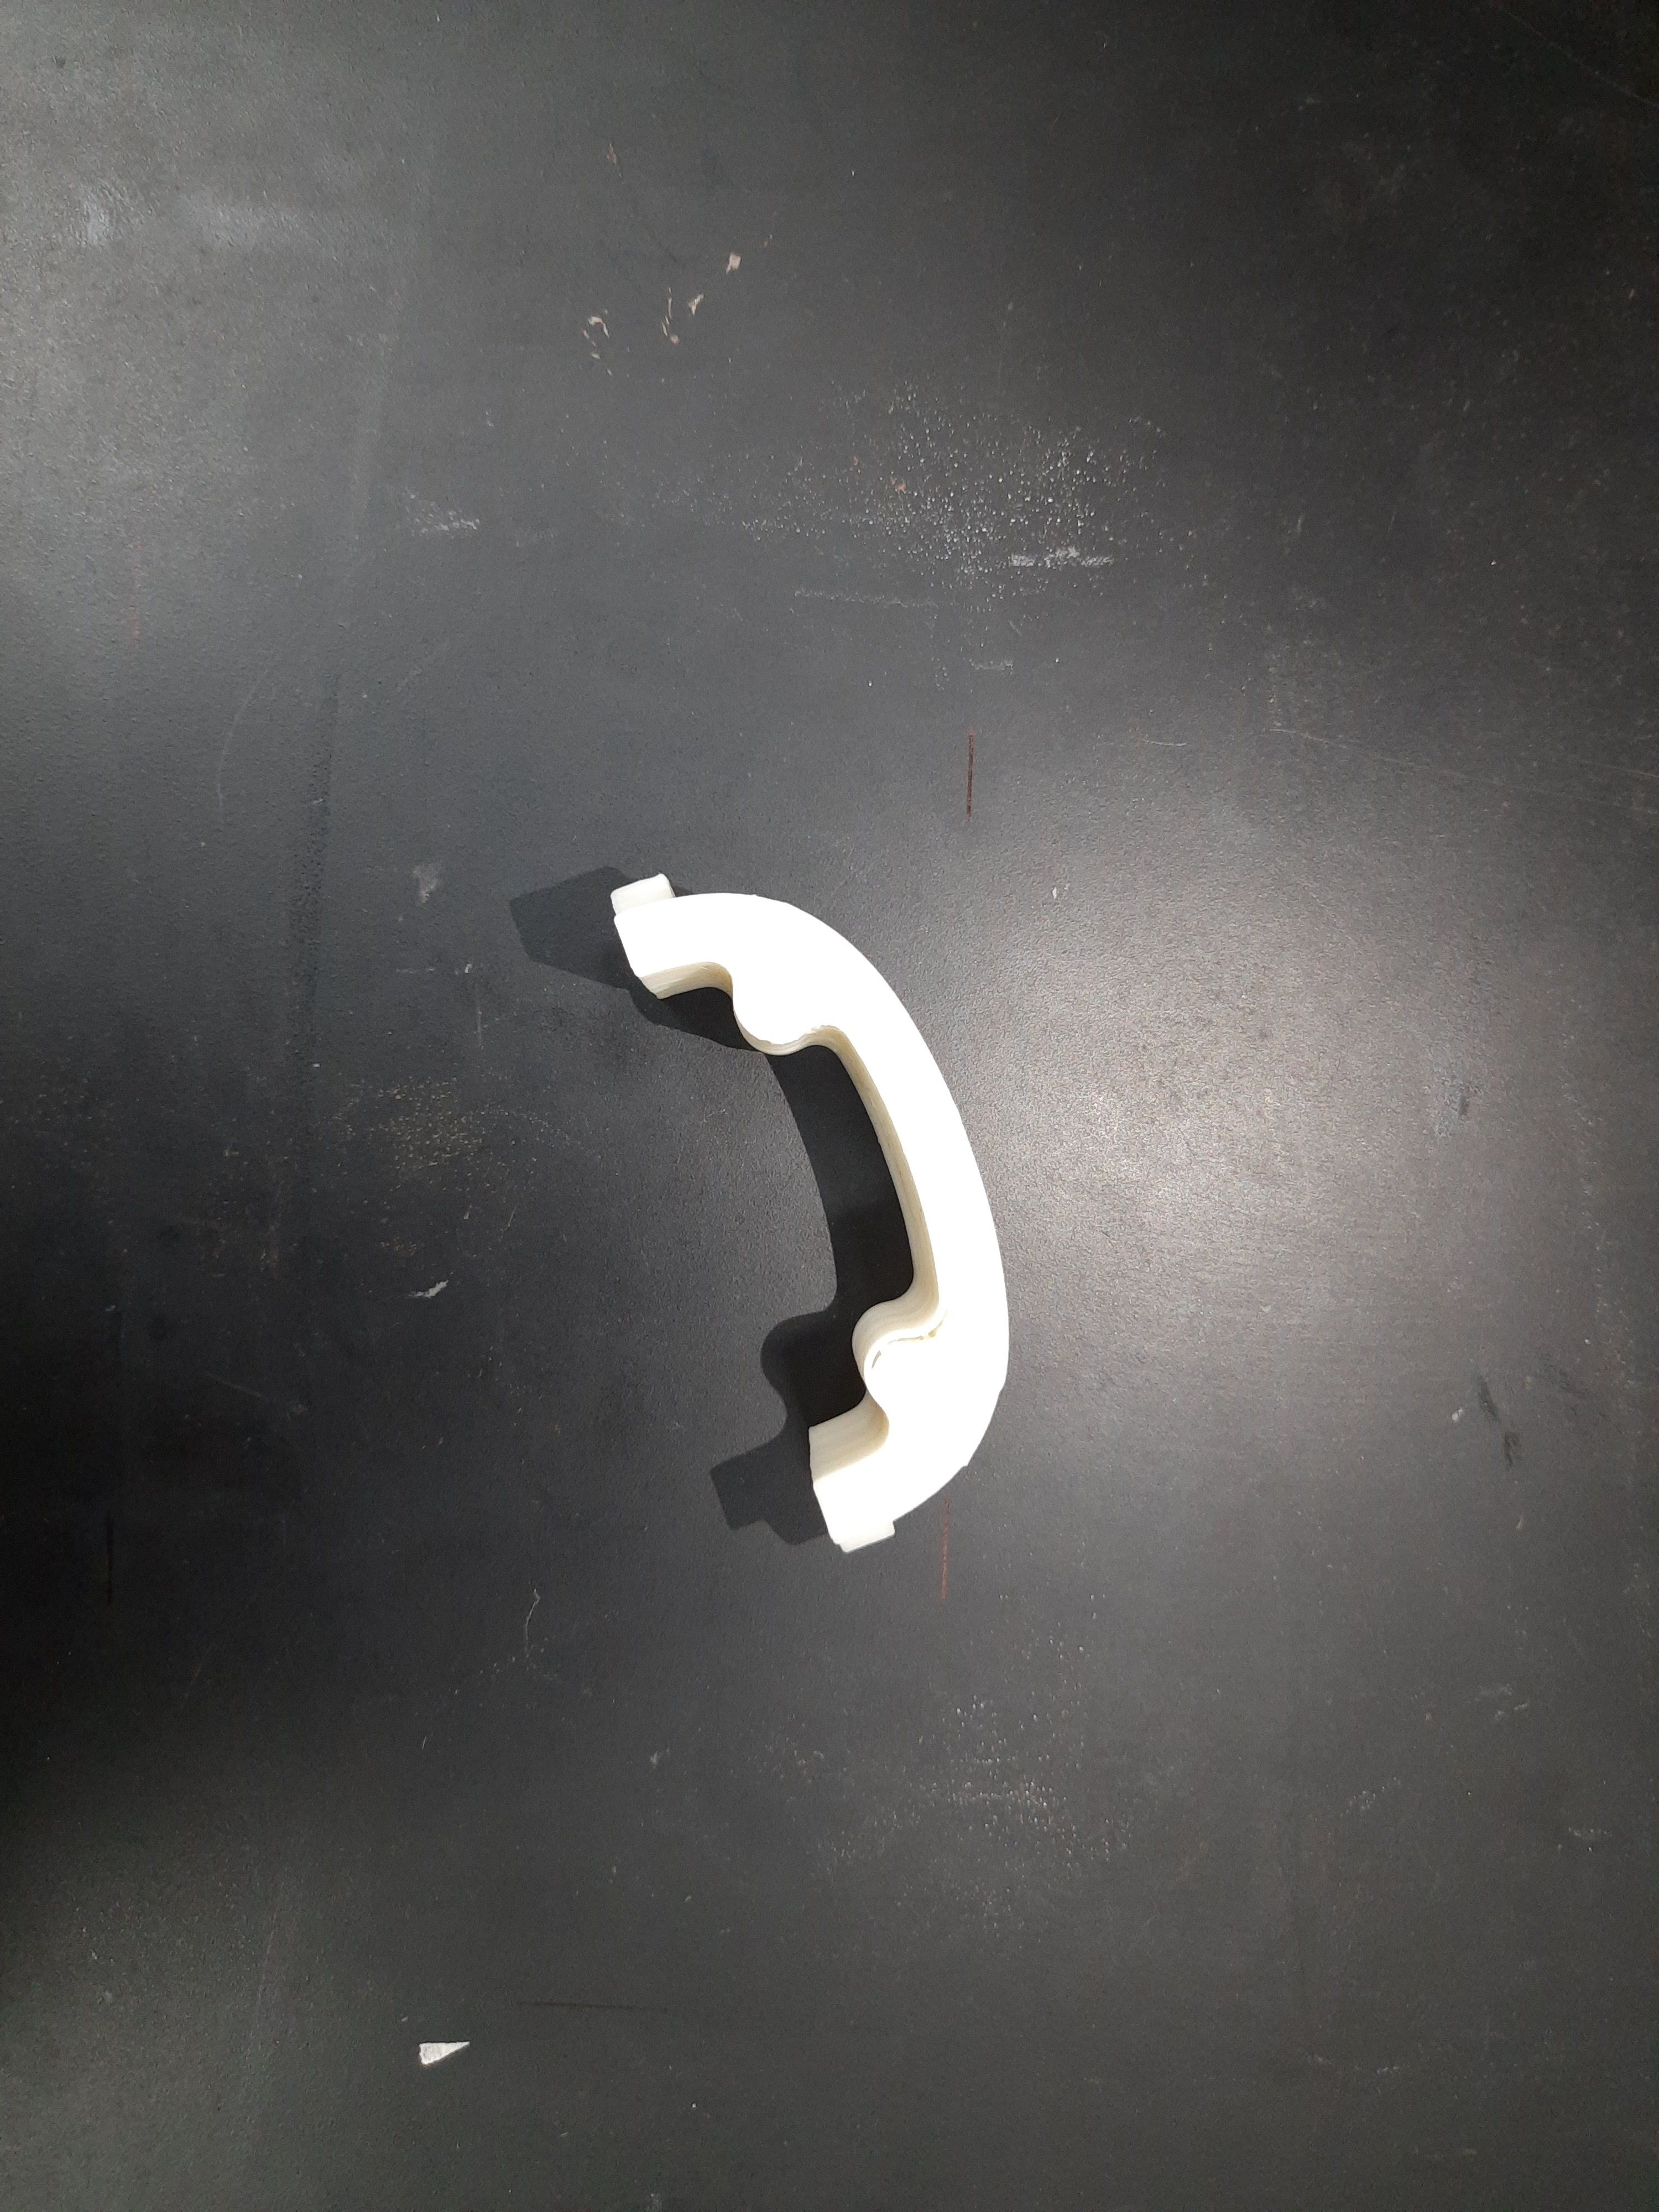ARC: (596, 806, 1094, 1557)
